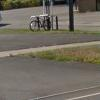Bicycle: (27, 13, 56, 33)
